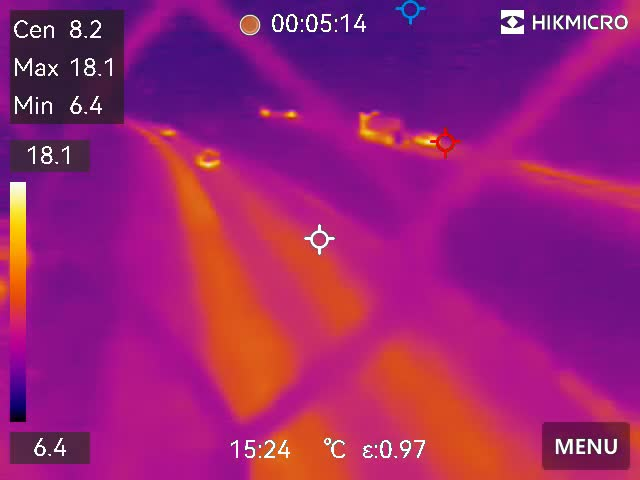heavyTruck: (357, 103, 414, 146)
